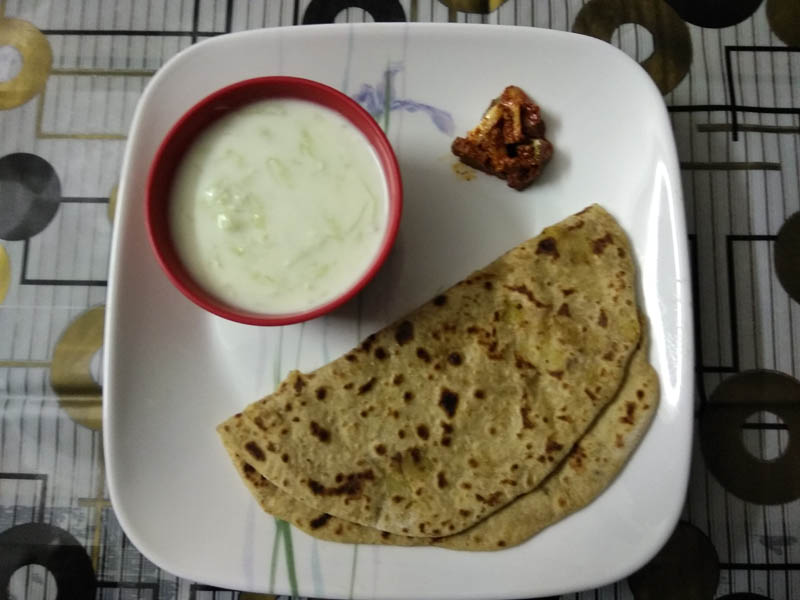aloo_paratha: (216, 202, 661, 558)
